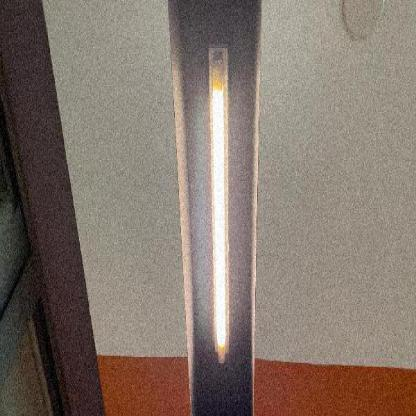light_on: (204, 36, 239, 372)
